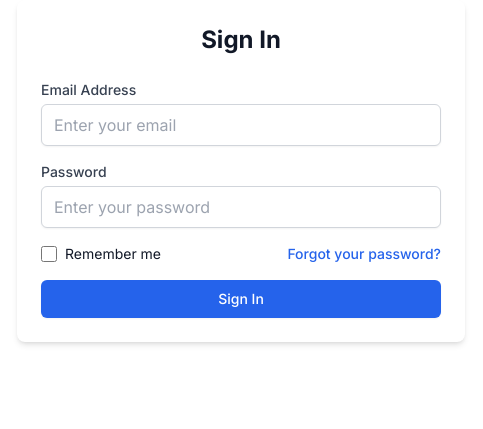
Test: LoginForm › should display error on failed login
Type "test@example.com" into the field labelled "Email Address" at [241, 125], box 41,104 -> 441,146
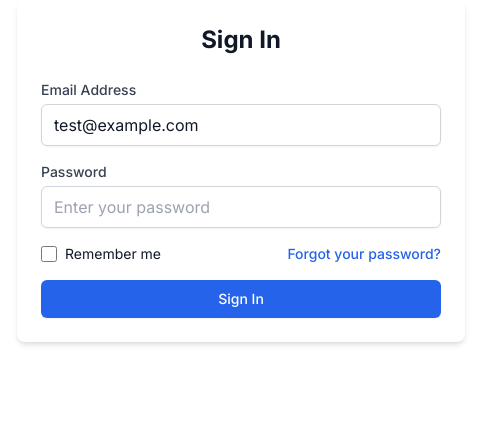
Type "wrongpassword" into the password field labelled "Password" at [241, 207], box 41,186 -> 441,228
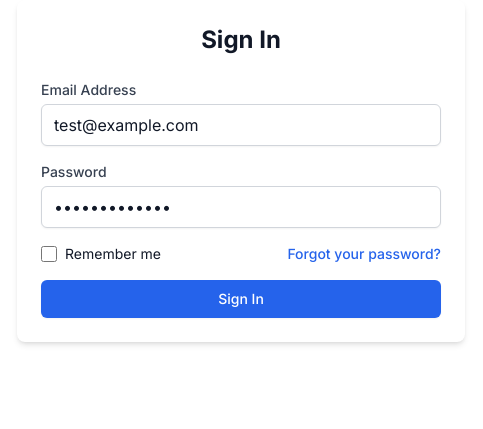
Click the button "Sign In" at [241, 299], box 41,280 -> 441,318
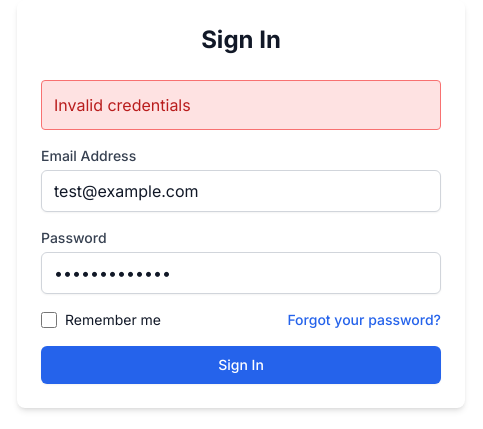
Now the text "Invalid credentials" is shown, box 41,80 -> 441,130
